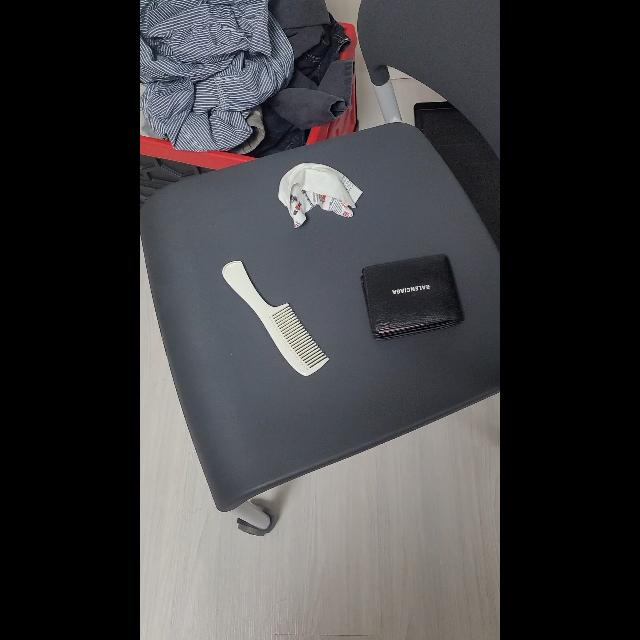COMB: (222, 260, 330, 376)
Glasses cleaning cloth: (278, 162, 362, 228)
WALLET: (360, 254, 464, 340)
